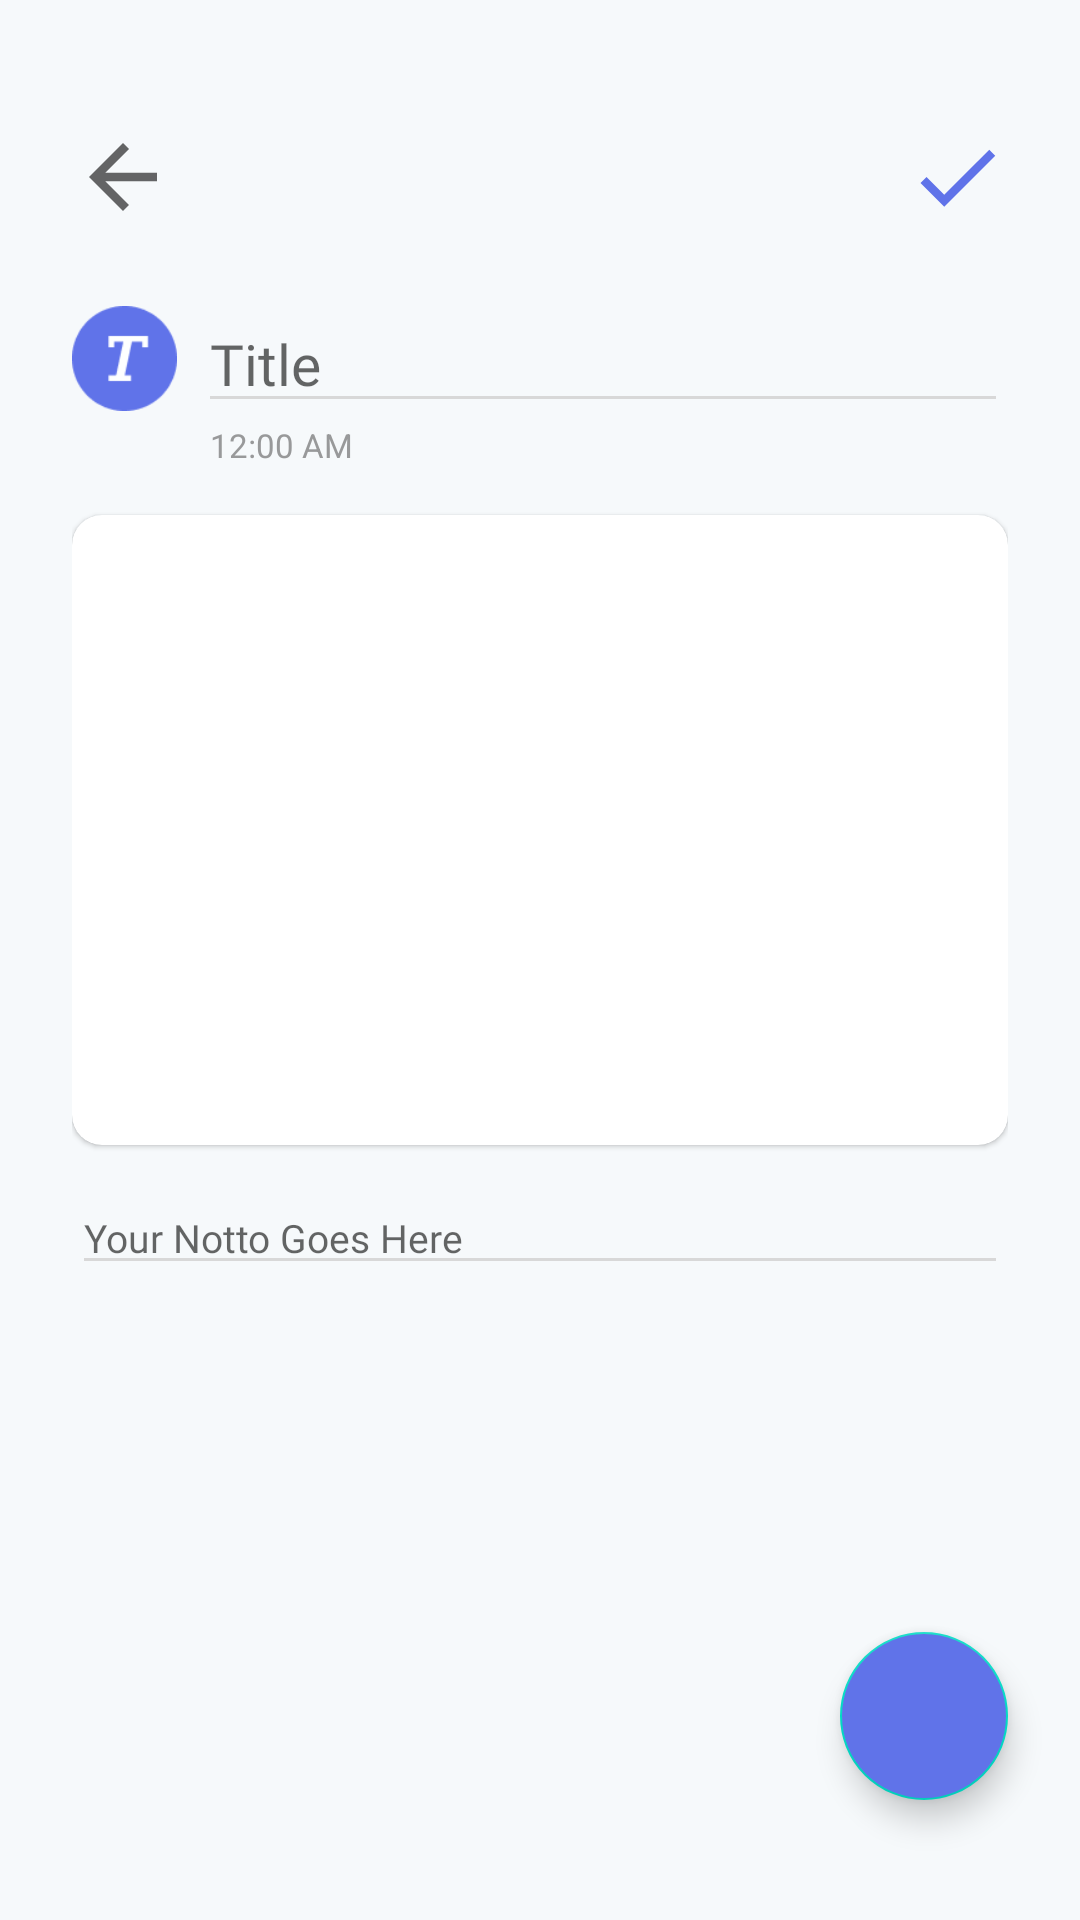

Icon click points for this 1080w x 1920h phone screenshot, format (x=x, y=y):
back: (x=123, y=177)
text: (x=124, y=358)
